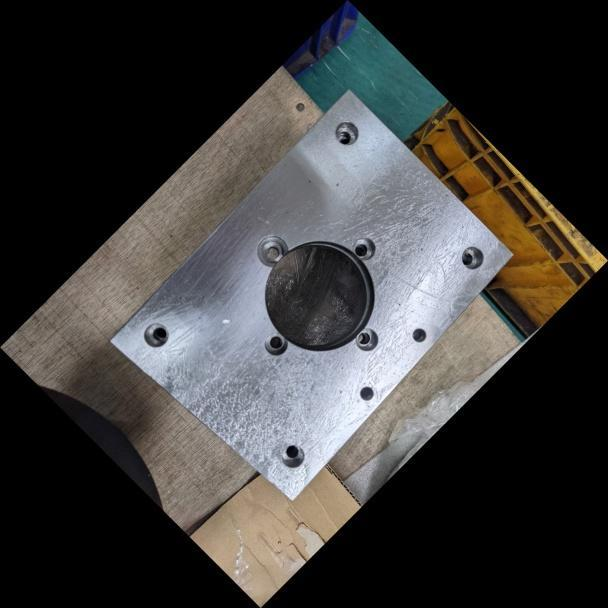hole: (244, 222, 299, 277), (323, 108, 371, 157), (269, 434, 315, 480), (345, 316, 391, 362), (338, 226, 383, 272), (254, 322, 299, 368), (134, 313, 178, 357), (452, 237, 494, 278), (350, 377, 383, 411), (404, 319, 435, 350)
